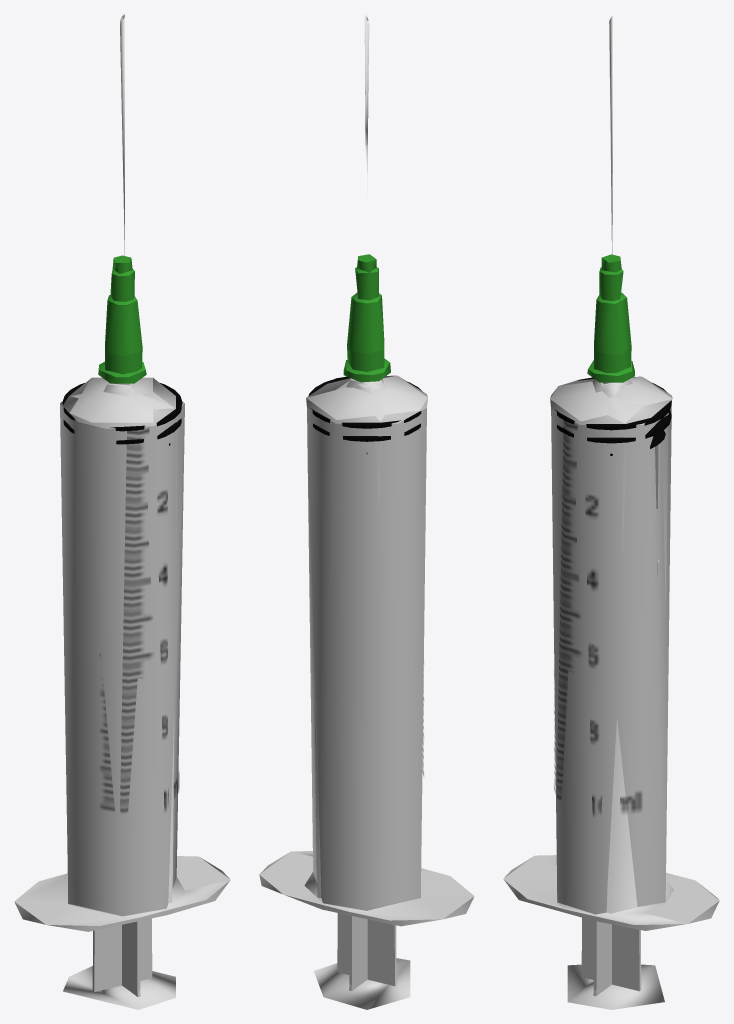
Rendered from medical_syringe.glb.
3 renders of one model, left to right at view 1: azimuth 30°, elevation 25°; view 2: azimuth 150°, elevation 25°; view 3: azimuth 330°, elevation 25°, orthographic.
Parts seen in each view (by area): view 1: Object_6, Object_2, Object_4, Object_3, Object_5; view 2: Object_6, Object_4, Object_3, Object_5; view 3: Object_6, Object_2, Object_4, Object_3, Object_5.
Part boxes in pixels (x1,y1,x2,y2): Object_6: (14, 377, 230, 1009); Object_2: (100, 428, 179, 812); Object_4: (98, 255, 146, 383); Object_3: (62, 383, 182, 445); Object_5: (120, 14, 124, 255); Object_6: (259, 375, 474, 1009); Object_4: (343, 254, 390, 382); Object_3: (308, 376, 422, 453); Object_5: (364, 14, 369, 251); Object_6: (503, 376, 719, 1009); Object_2: (554, 420, 641, 816); Object_4: (587, 254, 634, 382); Object_3: (555, 377, 671, 455); Object_5: (609, 14, 613, 259).
Size of the model in its own units: 0.0498 by 0.2327 by 0.0275.
5 materials, 1 textured.
